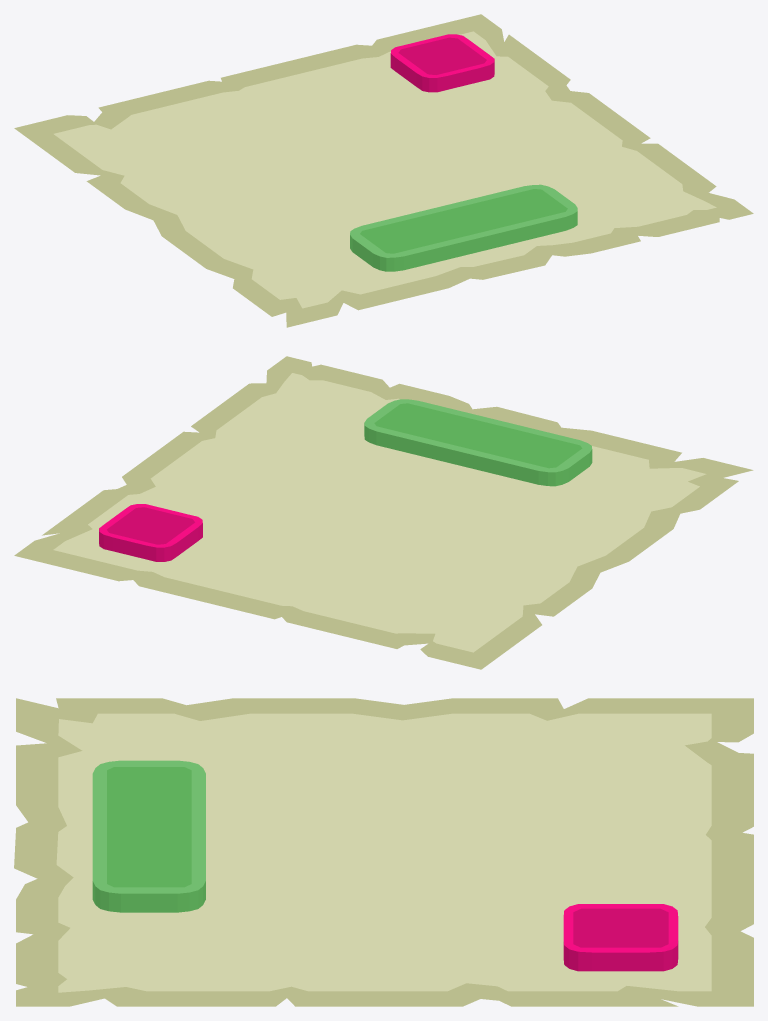
The model's file is info_canvas.glb.
The picture shows the model from 3 angles, top to bottom: view 1: azimuth 30°, elevation 25°; view 2: azimuth 150°, elevation 25°; view 3: azimuth 270°, elevation 25°; orthographic projection. The views are drawn at different scales.
Visible parts, largest first — view 1: hoja.002; view 2: hoja.002; view 3: hoja.002.
Boxes of the visible parts, bbox=[...] form: hoja.002: bbox=[14, 14, 753, 327]; hoja.002: bbox=[14, 356, 753, 669]; hoja.002: bbox=[14, 698, 753, 1006].
Size of the model in its own units: 1.65 by 0.0522 by 1.67.
Materials: 1 (1 with a texture image).
